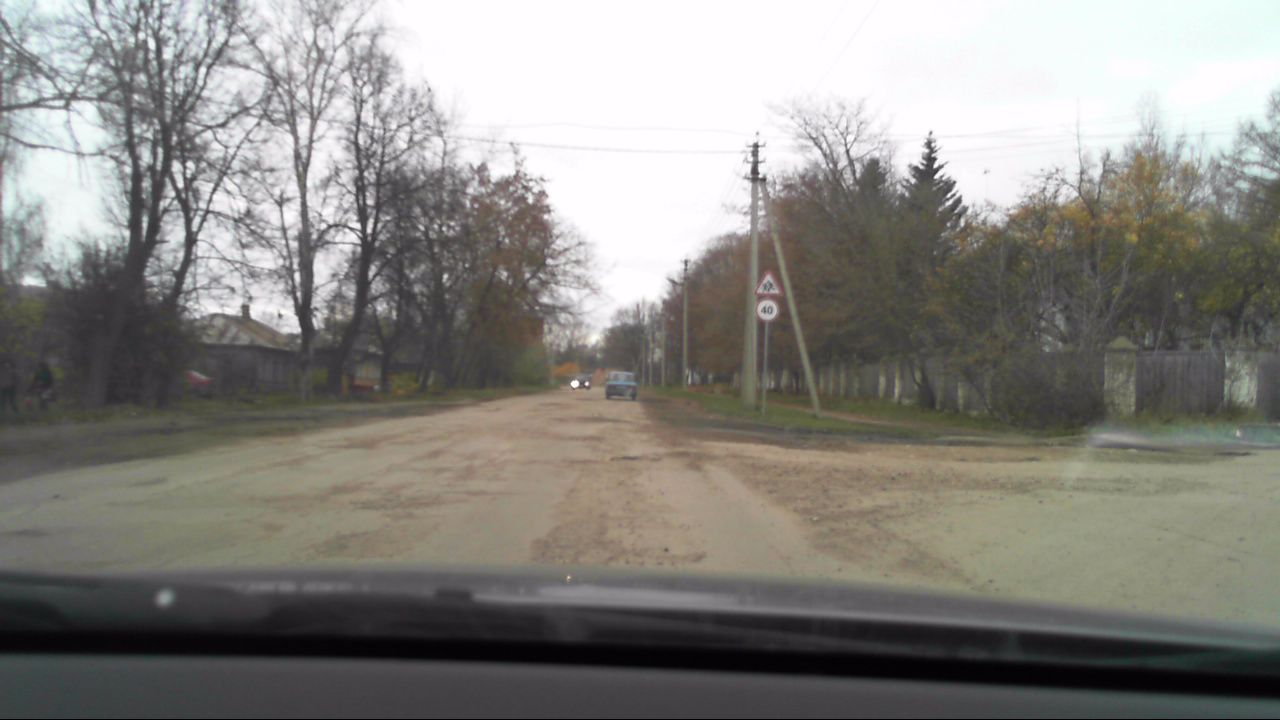speed_warning_40: (754, 298, 780, 323)
